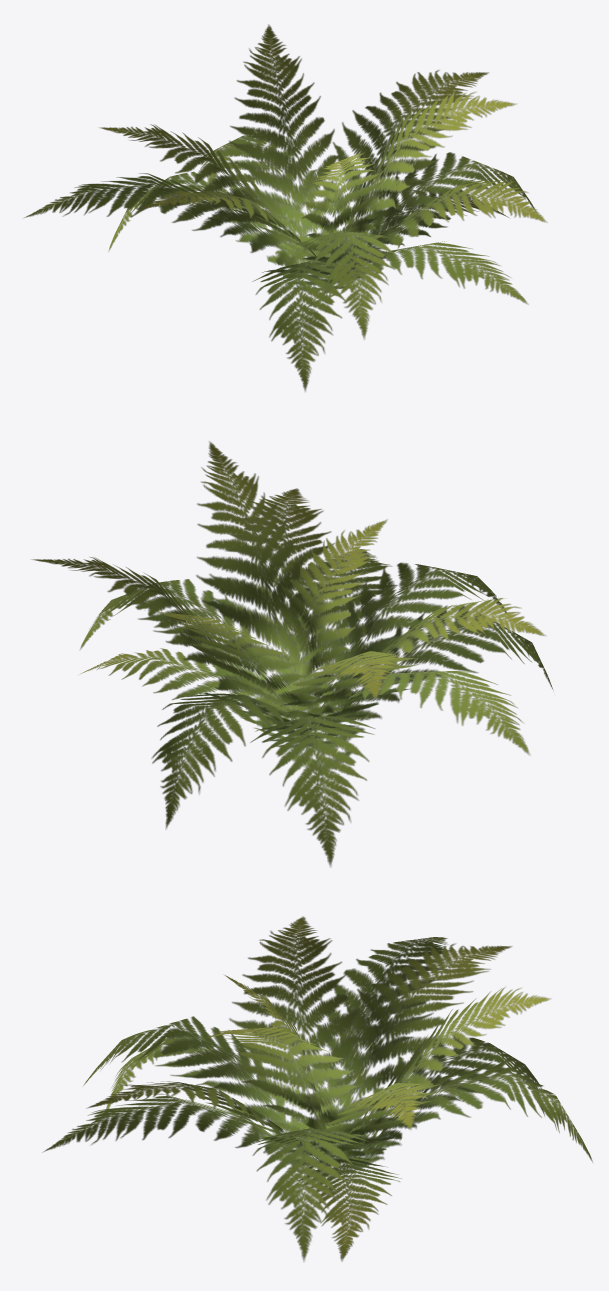
Rendered from foliage_01.gltf.
3 views of the same model, one above another, from view 1: azimuth 30°, elevation 25°; view 2: azimuth 150°, elevation 25°; view 3: azimuth 270°, elevation 25° (orthographic). The views are drawn at different scales.
Visible parts, largest first — view 1: Plant_Fern_Plant_Texture_0; view 2: Plant_Fern_Plant_Texture_0; view 3: Plant_Fern_Plant_Texture_0.
Part boxes in pixels (x1=…): Plant_Fern_Plant_Texture_0: x1=23, y1=24, x2=547, y2=391; Plant_Fern_Plant_Texture_0: x1=31, y1=441, x2=553, y2=867; Plant_Fern_Plant_Texture_0: x1=42, y1=916, x2=592, y2=1261.
Size of the model in its own units: 2.57 by 1.29 by 2.35.
Materials: 1 (1 with a texture image).
